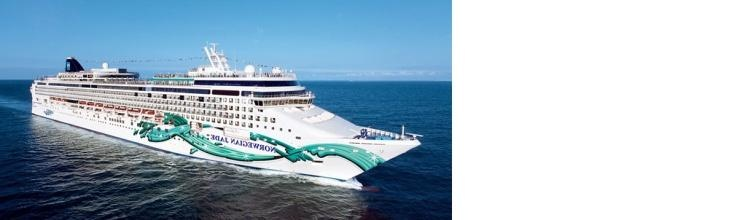youlun: (20, 36, 428, 190)
